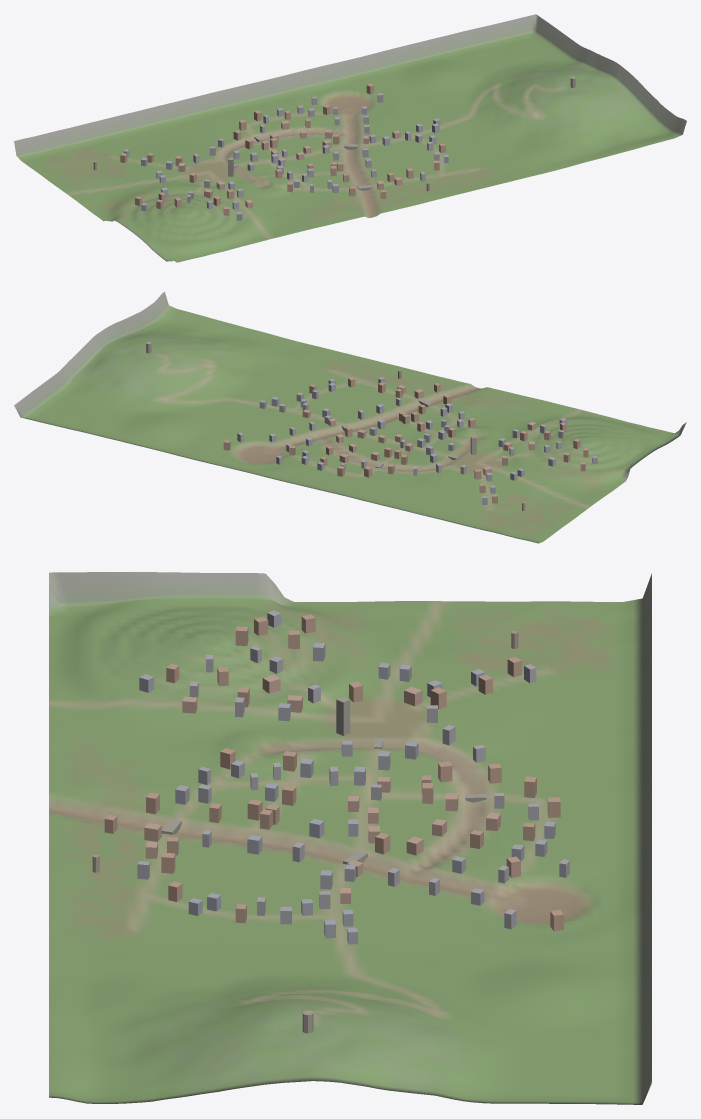
The model's file is horizon.glb.
3 views of the same model, one above another, from view 1: azimuth 30°, elevation 25°; view 2: azimuth 150°, elevation 25°; view 3: azimuth 270°, elevation 25° (orthographic). The views are drawn at different scales.
Parts seen in each view (by area): view 1: horizon_terrain, horizon_landmarks; view 2: horizon_terrain, horizon_landmarks; view 3: horizon_terrain, horizon_landmarks.
Part boxes in pixels (x1,y1,x2,y2): horizon_terrain: (14, 14, 686, 262); horizon_landmarks: (93, 76, 575, 220); horizon_terrain: (14, 291, 686, 543); horizon_landmarks: (146, 342, 597, 510); horizon_terrain: (49, 572, 651, 1104); horizon_landmarks: (92, 610, 569, 1033).
Bounding box in the file's own units: 1024 × 54.5 × 512.
